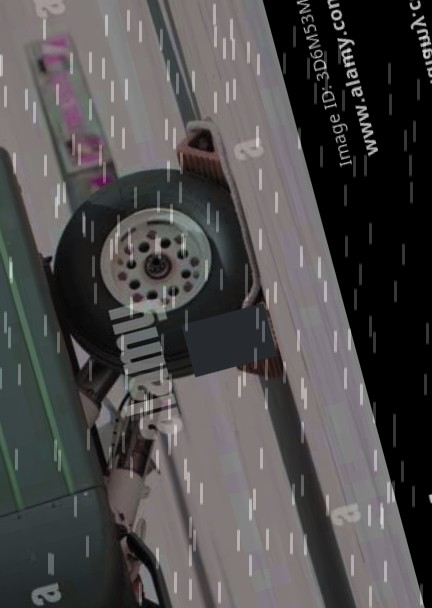chock: (168, 112, 235, 201), (221, 301, 285, 388)
wheel: (30, 153, 270, 403)
